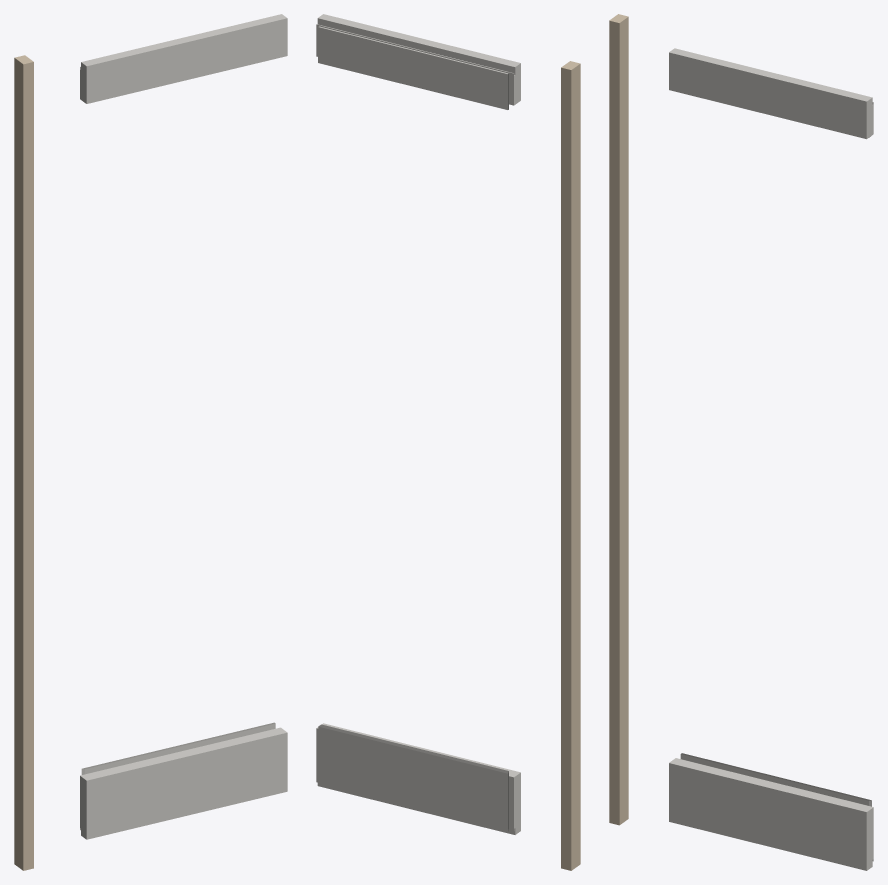
The picture shows the model from 3 angles, left to right: view 1: azimuth 30°, elevation 25°; view 2: azimuth 150°, elevation 25°; view 3: azimuth 330°, elevation 25°; orthographic projection.
Size of the model in its own units: 0.8953 by 2.64 by 0.0692.
